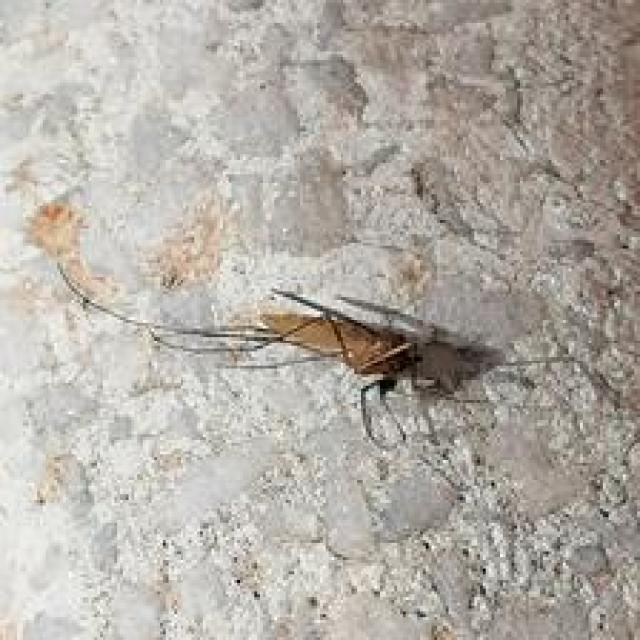Culex: (26, 186, 537, 451)
